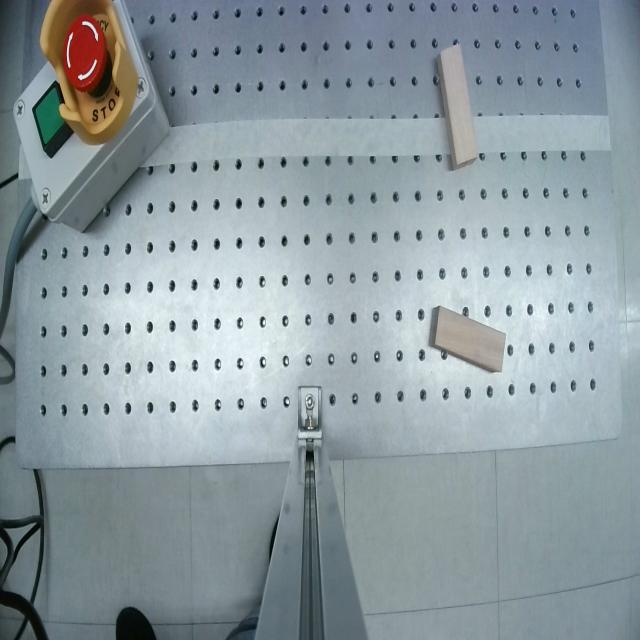wood: (424, 306, 516, 373), (439, 44, 479, 165)
